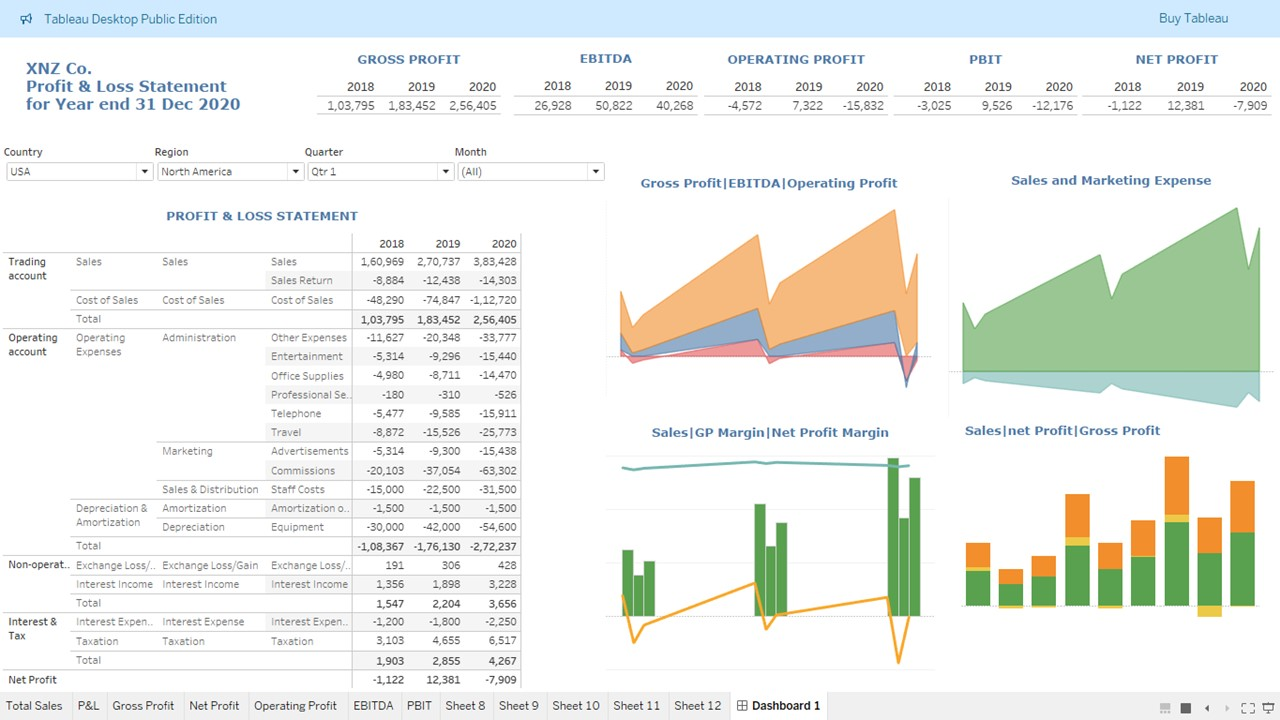

Layout of this report page (visuals, bound fields, positions):
{"tool":"tableau","page":{"name":"Dashboard 1","canvas":[1000,1000],"units":"permille","ordinal":0},"visuals":[{"type":"title","box":[18.7,3.6,207.5,144.1]},{"type":"worksheet","title":"EBITDA","mark":"Automatic","cols":["Date (Calendar)"],"box":[401.5,14.2,150,142.3]},{"type":"worksheet","title":"Gross Profit","mark":"Automatic","cols":["Date (Calendar)"],"box":[247.8,16,153.7,142.3]},{"type":"worksheet","title":"Operating Profit","mark":"Automatic","cols":["Date (Calendar)"],"box":[550,16,148.5,144.1]},{"type":"worksheet","title":"PBIT","mark":"Automatic","cols":["Date (Calendar)"],"box":[697.8,16,147,172.6]},{"type":"worksheet","title":"Net Profit","mark":"Automatic","cols":["Date (Calendar)"],"box":[844.8,16,153.7,138.8]},{"type":"filter","title":"P&L","param":"[federated.1eqq2k51r41y211ffzjnn1qv825l].[none:Country:nk]","box":[3,163.7,119.4,106.8]},{"type":"filter","title":"P&L","param":"[federated.1eqq2k51r41y211ffzjnn1qv825l].[none:Region:nk]","box":[120.9,163.7,119.4,92.5]},{"type":"filter","title":"P&L","param":"[federated.1eqq2k51r41y211ffzjnn1qv825l].[none:Quarter:nk]","box":[238.1,163.7,119.4,76.5]},{"type":"filter","title":"P&L","param":"[federated.1eqq2k51r41y211ffzjnn1qv825l].[none:Month:nk]","box":[355.2,163.7,119.4,83.6]},{"type":"worksheet","title":"Sheet 10","mark":"Area","cols":["Date (Calendar)"],"box":[740.3,201.1,254.6,379]},{"type":"worksheet","title":"Sheet 9","mark":"Area","cols":["Date (Calendar)"],"box":[472.7,204.6,254.6,343.4]},{"type":"worksheet","title":"P&L","mark":"Automatic","rows":["Class","SubClass","SubClass2","Account"],"cols":["Date (Calendar)"],"box":[2.2,254.5,473.1,740.2]},{"type":"worksheet","title":"Sheet 12","mark":"Bar","cols":["Date (Calendar)","Date (Calendar)","Date (Calendar)"],"box":[750.6,583.6,232.9,314.9]},{"type":"worksheet","title":"Sheet 11","mark":"Automatic","rows":["Calculation_327636875976085504"],"cols":["Date (Calendar)"],"box":[472.7,585.4,257.1,386.1]}]}

Visuals, with their boxes on the dashboard's canvas, which has no fixed pixel size, in thousandths of its width and height (x1, y1, x2, y2). These are canvas units, not pixel positions in the 1280x720 screenshot, which may show the page scaled, cropped or inside an application window:
title: [19, 4, 226, 148]
"EBITDA" worksheet: [402, 14, 552, 156]
"Gross Profit" worksheet: [248, 16, 402, 158]
"Operating Profit" worksheet: [550, 16, 698, 160]
"PBIT" worksheet: [698, 16, 845, 189]
"Net Profit" worksheet: [845, 16, 998, 155]
"P&L" filter: [3, 164, 122, 270]
"P&L" filter: [121, 164, 240, 256]
"P&L" filter: [238, 164, 358, 240]
"P&L" filter: [355, 164, 475, 247]
"Sheet 10" worksheet (Area marks): [740, 201, 995, 580]
"Sheet 9" worksheet (Area marks): [473, 205, 727, 548]
"P&L" worksheet: [2, 254, 475, 995]
"Sheet 12" worksheet (Bar marks): [751, 584, 984, 898]
"Sheet 11" worksheet: [473, 585, 730, 972]
